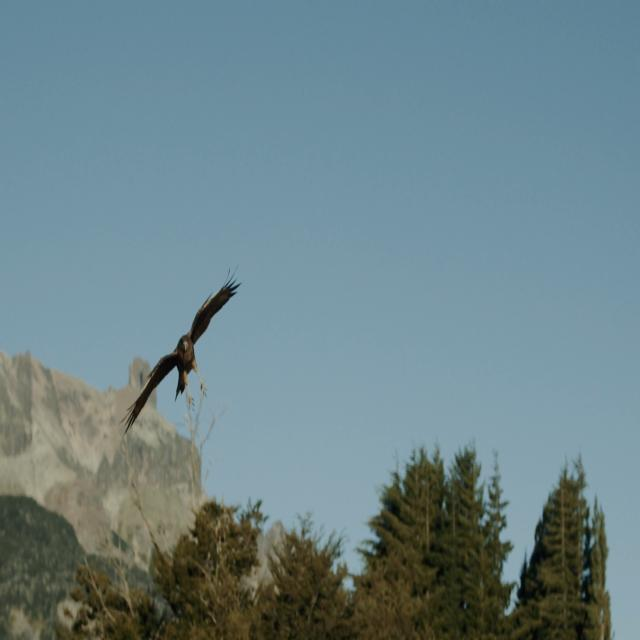bird: (116, 270, 246, 437)
